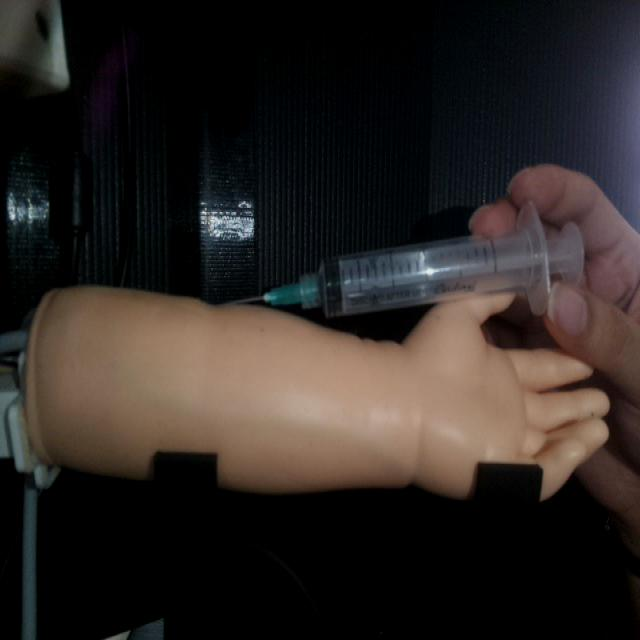Below 15 degrees: (226, 198, 586, 322)
